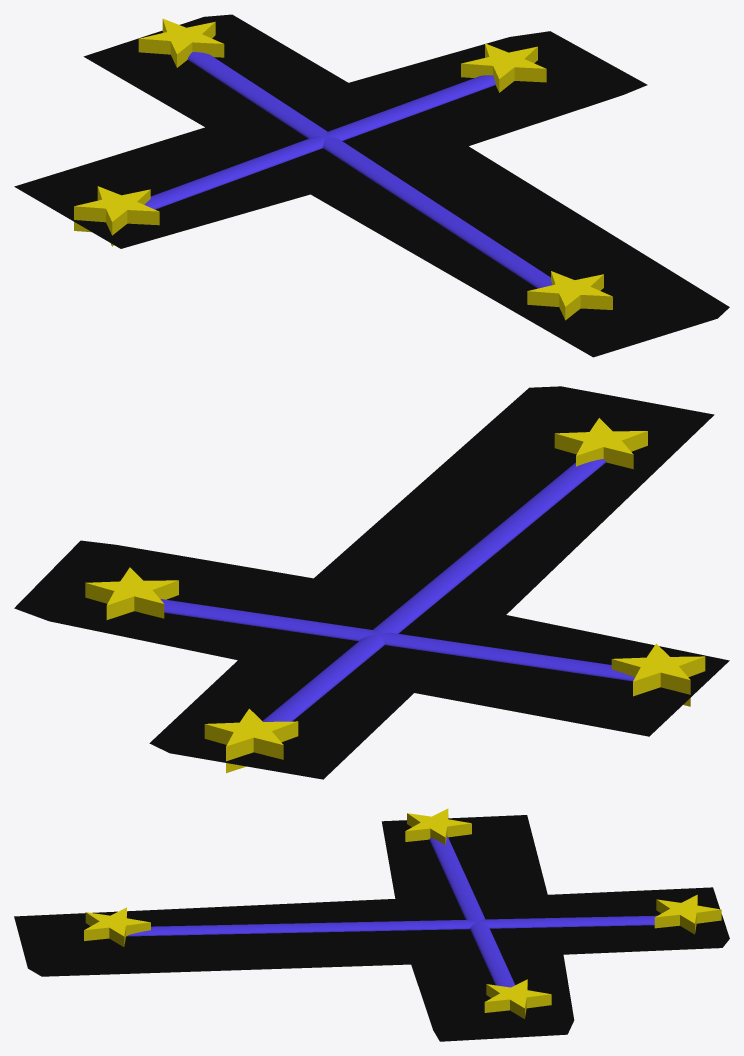
The model's file is Minami-juzi-za.glb.
The picture shows the model from 3 angles, top to bottom: view 1: azimuth 30°, elevation 25°; view 2: azimuth 150°, elevation 25°; view 3: azimuth 270°, elevation 25°; orthographic projection. The views are drawn at different scales.
Parts seen in each view (by area): view 1: 円, 円柱.003, 円柱.001, 円.002, 円.003, 円.010, 円.001; view 2: 円, 円柱.003, 円柱.001, 円.010, 円.001, 円.002, 円.003; view 3: 円, 円柱.003, 円柱.001, 円.001, 円.010, 円.002, 円.003.
Part boxes in pixels (box(x1,y1,x2,y2)): 円: box(14, 14, 729, 357); 円柱.003: box(187, 52, 552, 288); 円柱.001: box(144, 75, 495, 209); 円.002: box(74, 186, 159, 246); 円.003: box(527, 271, 612, 320); 円.010: box(138, 18, 224, 67); 円.001: box(461, 43, 546, 92); 円: box(14, 386, 729, 779); 円柱.003: box(262, 459, 605, 721); 円柱.001: box(160, 599, 634, 681); 円.010: box(204, 708, 298, 773); 円.001: box(85, 567, 178, 619); 円.002: box(611, 643, 705, 706); 円.003: box(554, 418, 647, 469); 円: box(14, 815, 729, 1041); 円柱.003: box(127, 915, 657, 936); 円柱.001: box(429, 836, 514, 987); 円.001: box(484, 979, 551, 1019); 円.010: box(654, 894, 721, 934); 円.002: box(405, 808, 471, 844); 円.003: box(84, 907, 150, 946).
Size of the model in its own units: 22.05 by 0.8959 by 29.41.
